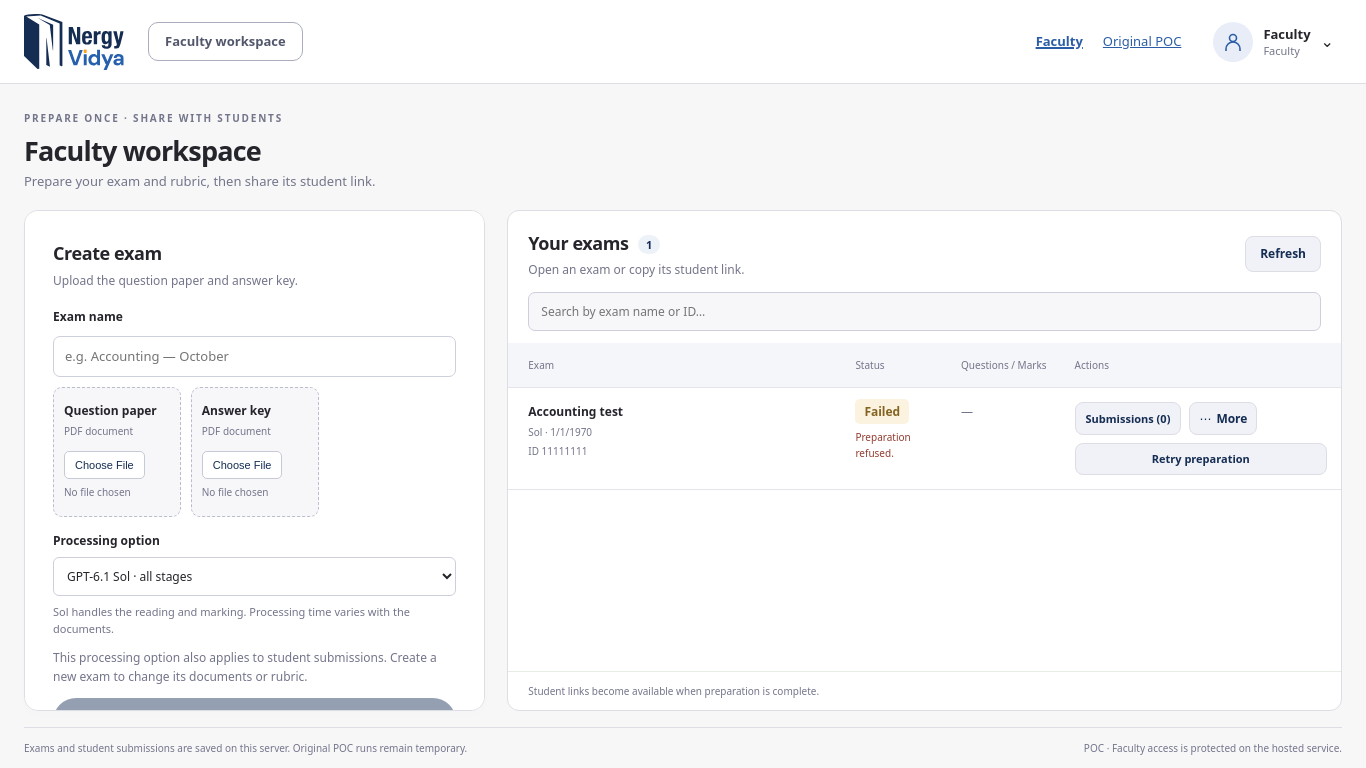
Test: Faculty page › keeps source filenames available in a popup for failed exams
expect the text "Failed" is shown: met, box x1=855 y1=399 x2=909 y2=424
Click the button with aria-label "More actions for Accounting test".
click(1223, 419)  # box x1=1189 y1=402 x2=1257 y2=435
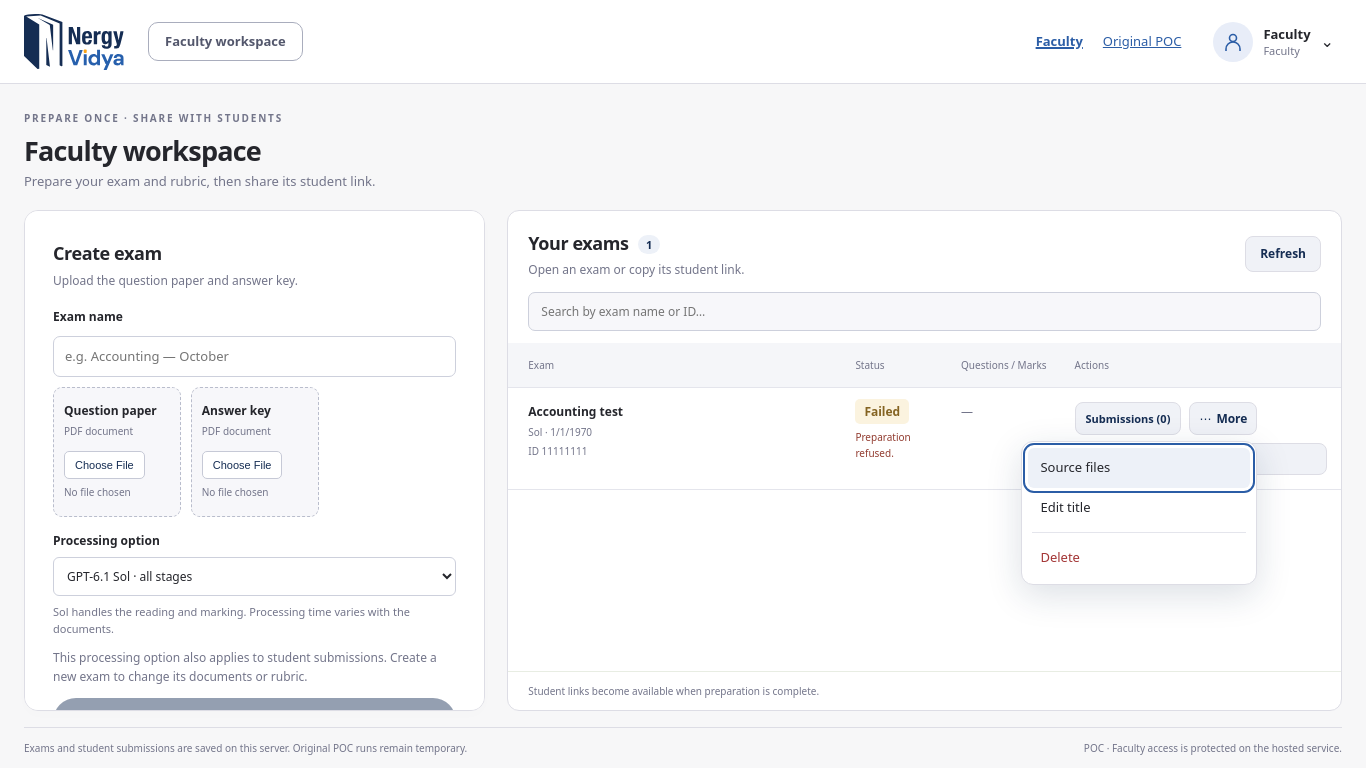
Click the menu item "Source files".
click(1139, 468)  # box x1=1028 y1=448 x2=1250 y2=488
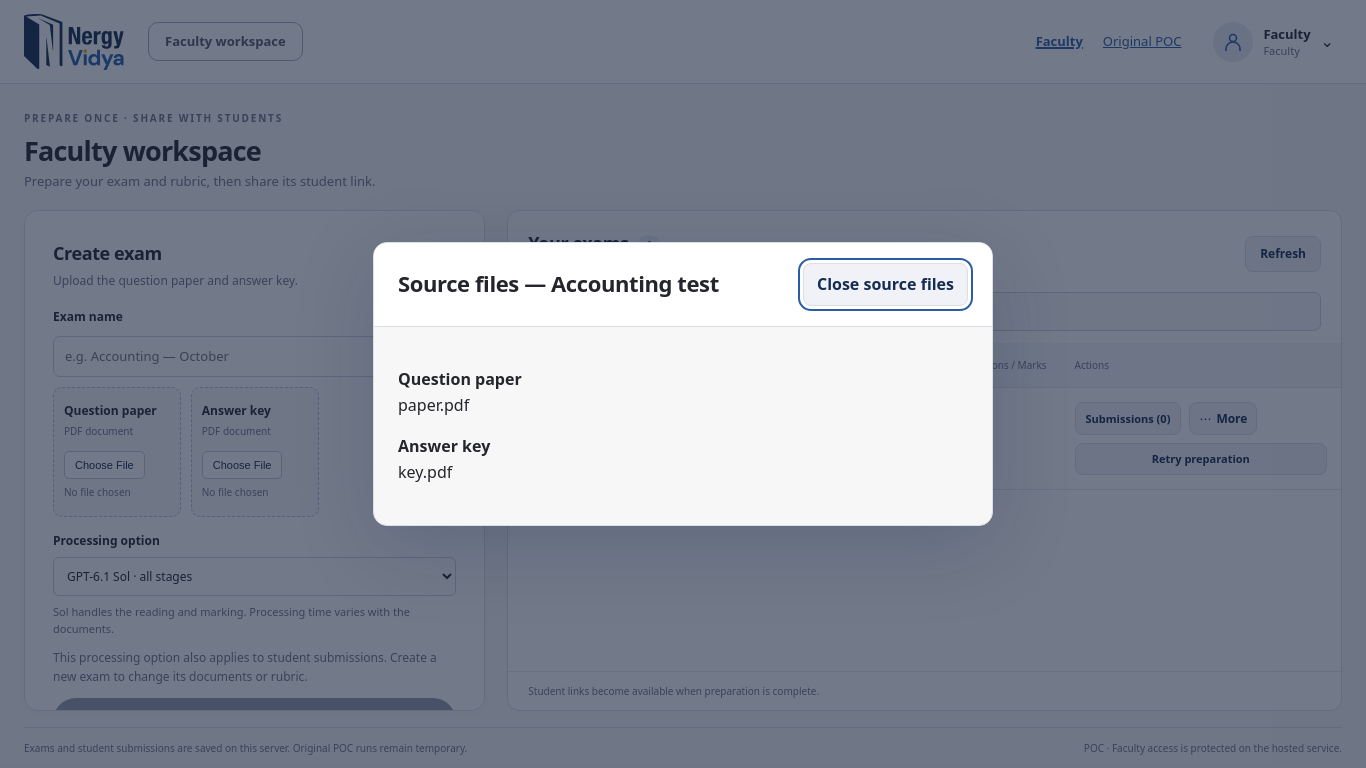
expect the text "paper.pdf" is shown: met, box x1=398 y1=394 x2=469 y2=416
expect the text "key.pdf" is shown: met, box x1=398 y1=461 x2=452 y2=483
Click the button "Close source files".
click(885, 284)  # box x1=803 y1=262 x2=968 y2=306
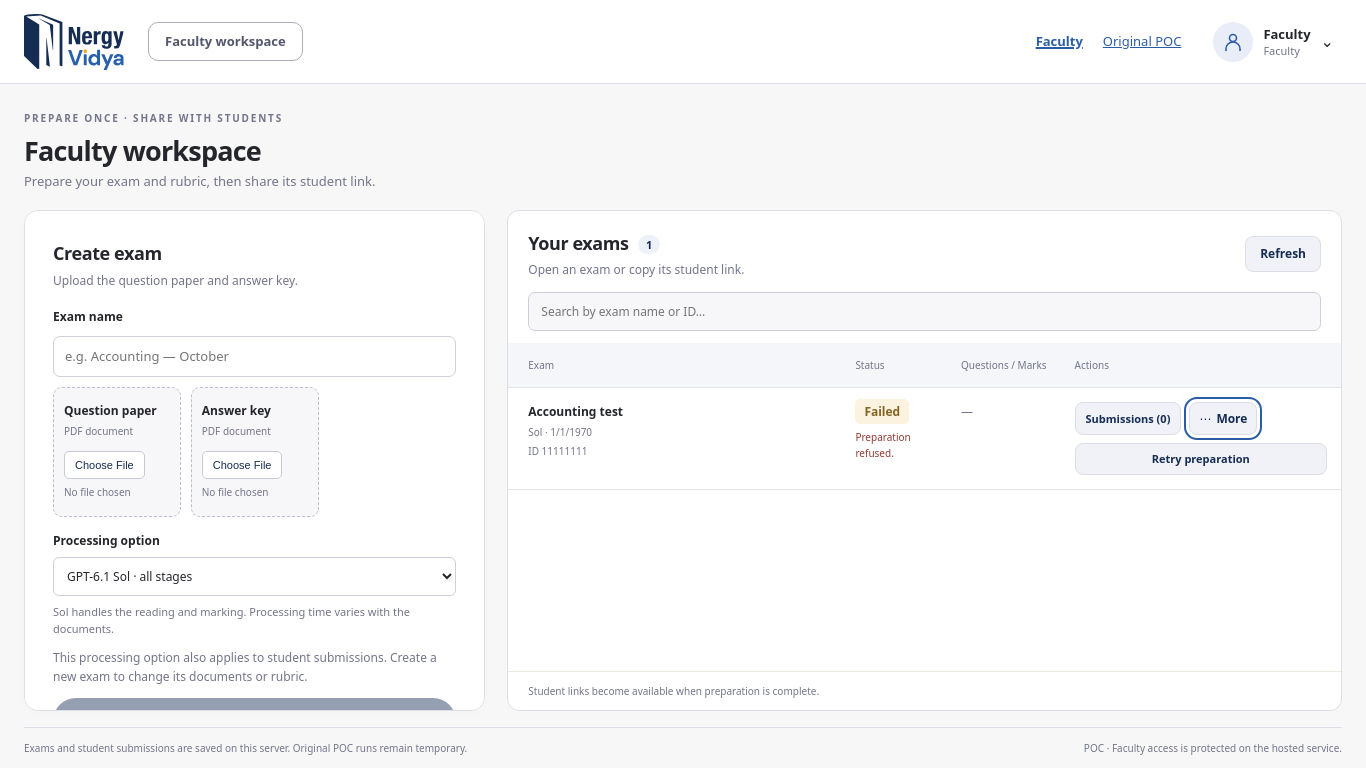
expect the button "Retry preparation" is shown: met, box x1=1074 y1=443 x2=1327 y2=475
expect the dialog is gone: met
